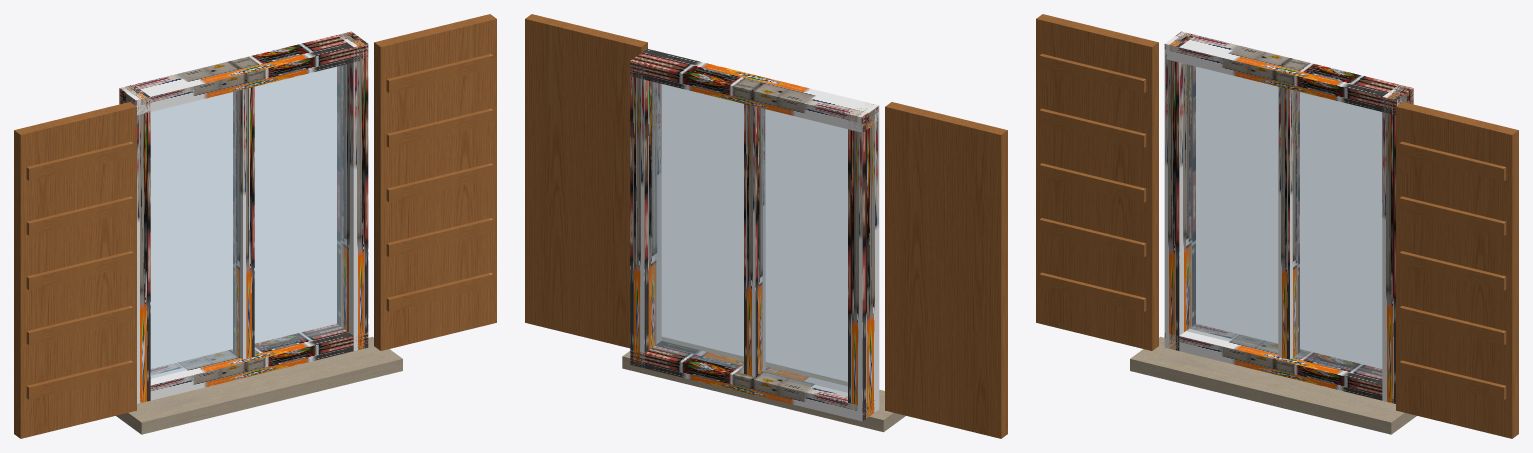
The model's file is Window_Shutters.fbx.
The picture shows the model from 3 angles, left to right: view 1: azimuth 30°, elevation 25°; view 2: azimuth 150°, elevation 25°; view 3: azimuth 330°, elevation 25°; orthographic projection.
Parts seen in each view (by area): view 1: Window_Shutters; view 2: Window_Shutters; view 3: Window_Shutters.
Boxes of the visible parts, bbox=[...] form: Window_Shutters: bbox=[14, 14, 496, 438]; Window_Shutters: bbox=[525, 14, 1007, 438]; Window_Shutters: bbox=[1036, 14, 1518, 438].
Size of the model in its own units: 1.64 by 1.04 by 0.22.
